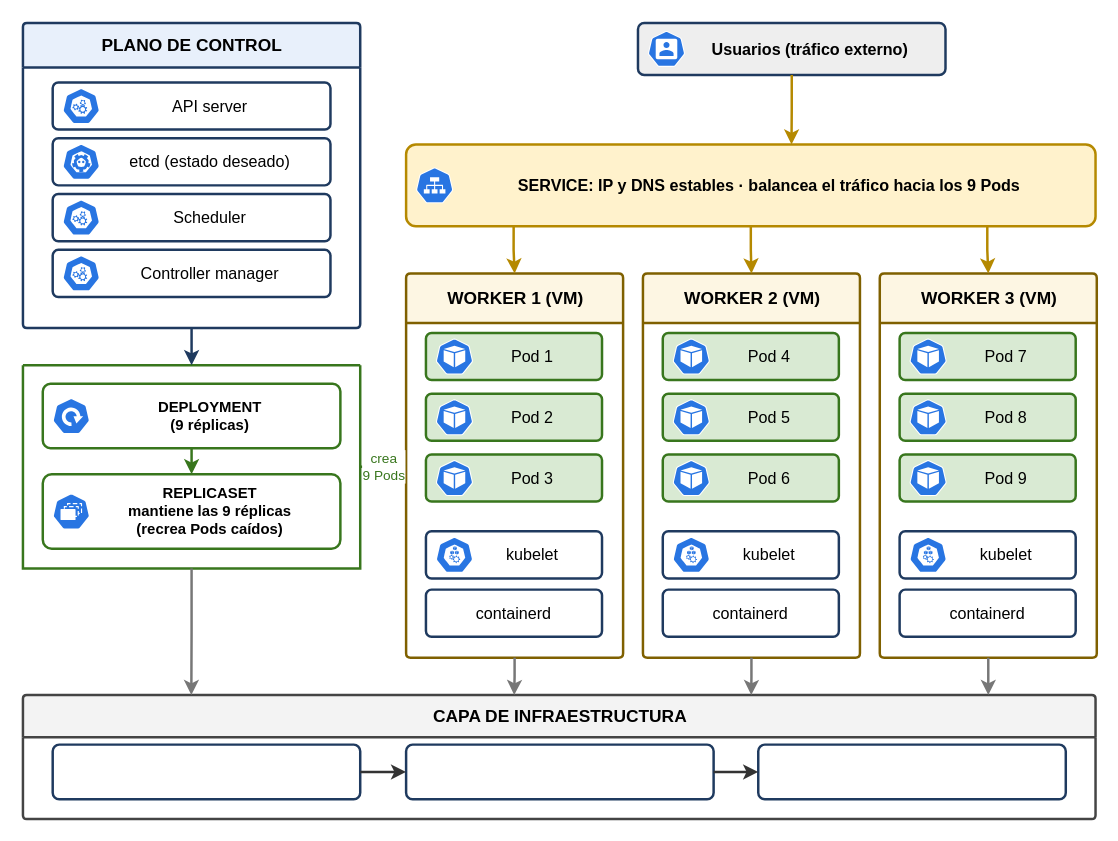
Some shapes in this 1118 by 841 pixel diagram are drawn without their labels. The centre of each missing label's shape, as x and y in pixels:
"Hipervisor (AHV / ESXi / KVM)" goes at point 559,771.
"Nodos HCI físicos (CPU + RAM + NVMe)" goes at point 911,771.
"VM (plano de control + 3 workers)" goes at point 206,771.
